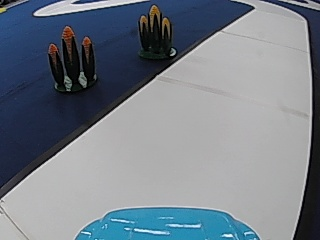corn: (47, 25, 99, 92), (135, 2, 176, 60)
